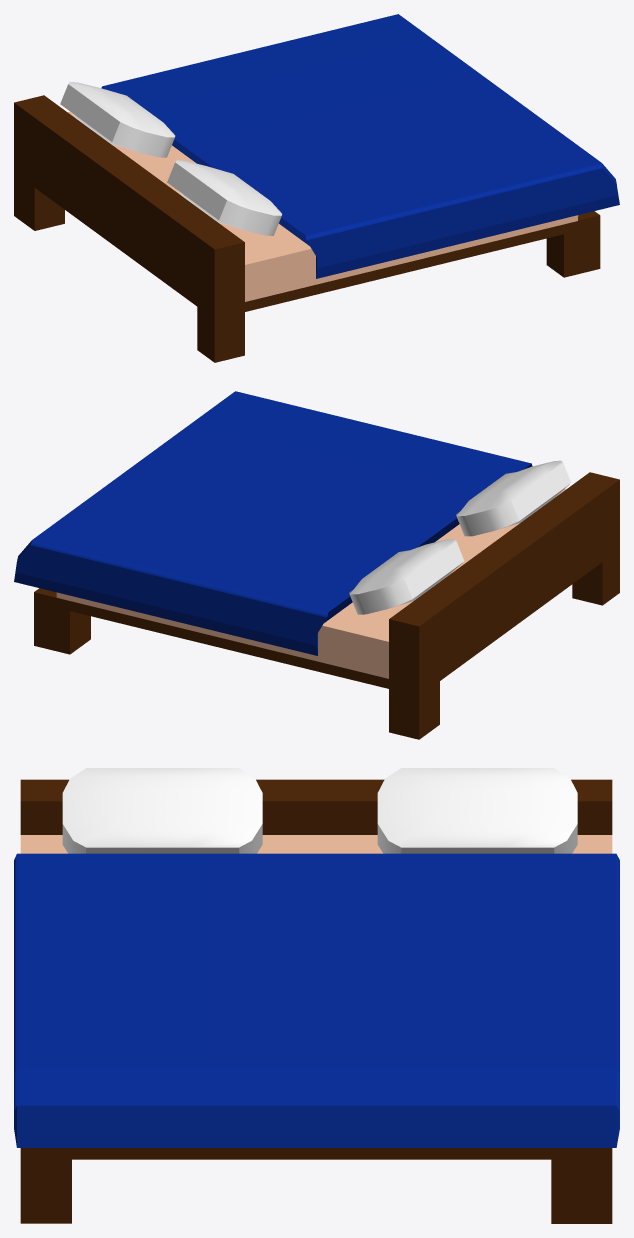
The model's file is bed.fbx.
3 renders of one model, top to bottom at view 1: azimuth 30°, elevation 25°; view 2: azimuth 150°, elevation 25°; view 3: azimuth 270°, elevation 25°, orthographic. The views are drawn at different scales.
Visible parts, largest first — view 1: pCube5; view 2: pCube5; view 3: pCube5.
Part boxes in pixels (x1=…): pCube5: x1=14, y1=14, x2=619, y2=362; pCube5: x1=14, y1=391, x2=619, y2=739; pCube5: x1=14, y1=768, x2=619, y2=1223.
Bounding box in the file's own units: 13.41 × 4.39 × 11.82.
